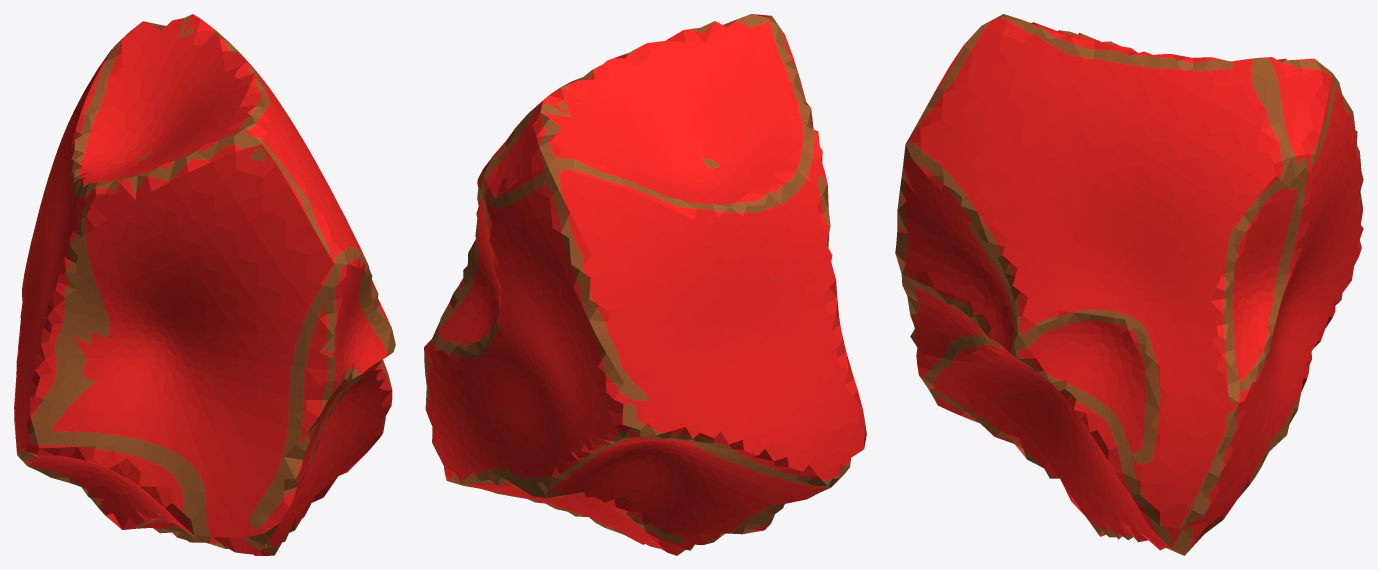
File: Astord.fbx
The picture shows the model from 3 angles, left to right: view 1: azimuth 30°, elevation 25°; view 2: azimuth 150°, elevation 25°; view 3: azimuth 270°, elevation 25°; orthographic projection. The views are drawn at different scales.
Visible parts, largest first — view 1: Astord; view 2: Astord; view 3: Astord.
Part boxes in pixels (left/top/right/bottom): Astord: left=14, top=14, right=395, bottom=555; Astord: left=424, top=14, right=866, bottom=555; Astord: left=895, top=14, right=1363, bottom=555.
Size of the model in its own units: 171 by 210 by 182.
